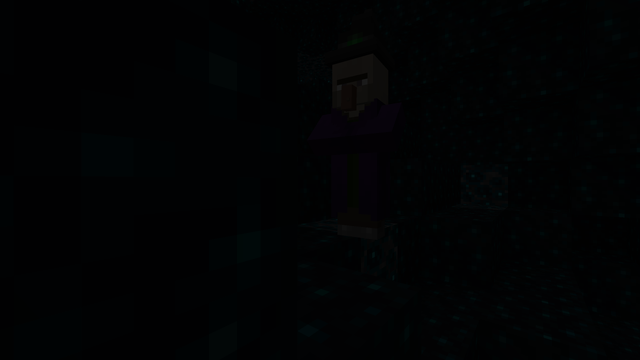sorcieres: (323, 40, 397, 244)
